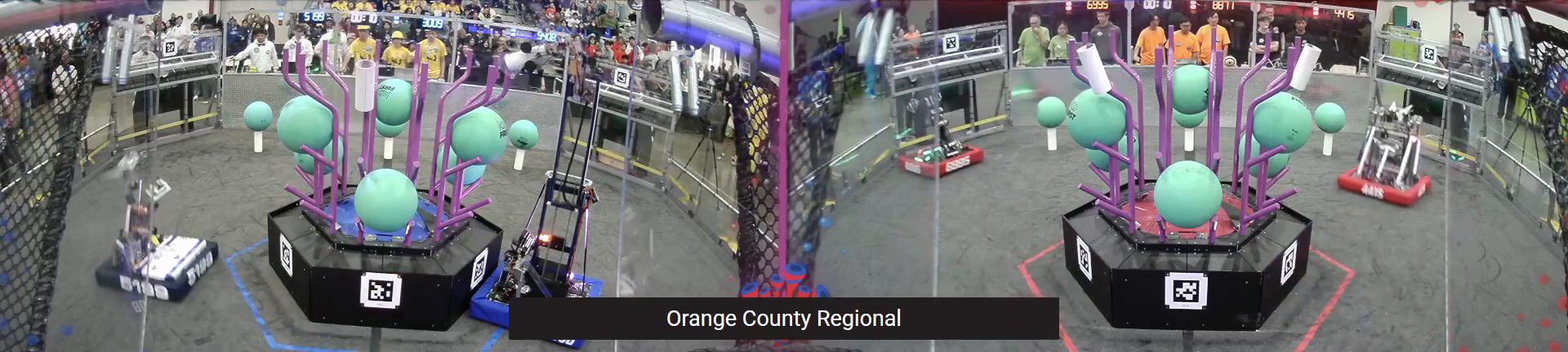reef: (1066, 25, 1315, 331), (264, 37, 514, 332)
robot: (468, 46, 607, 348), (97, 147, 218, 306), (1337, 103, 1430, 204), (900, 114, 983, 180)
